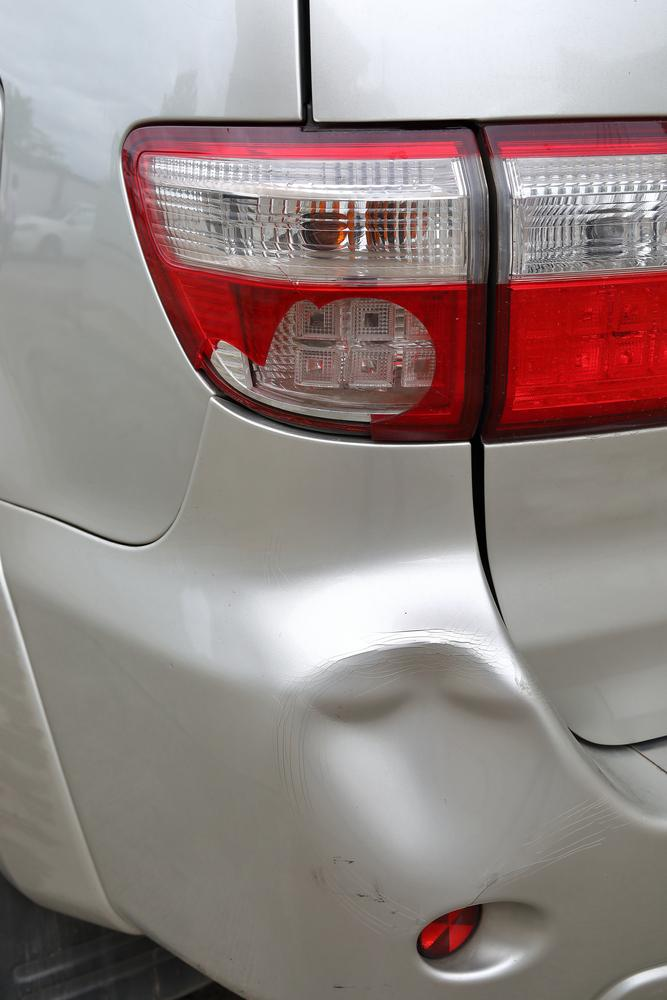dent: (297, 636, 547, 884)
lamp broken: (121, 124, 494, 442)
